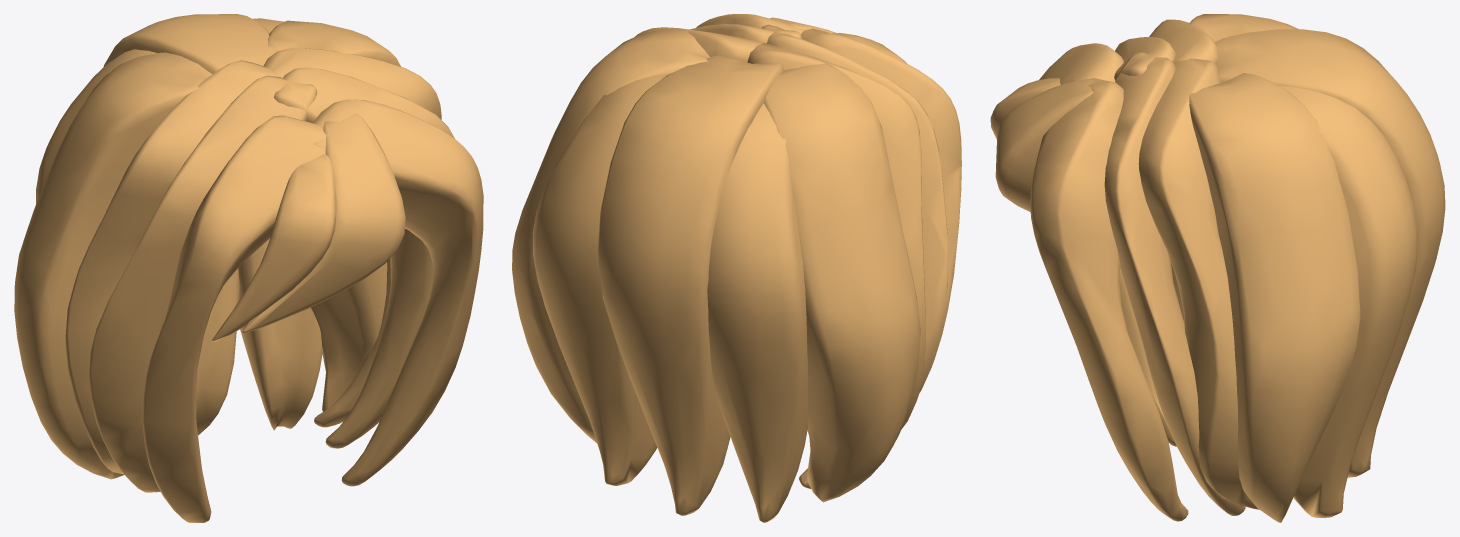
The model's file is hair-004-32df56e0.glb.
3 views of the same model, side by side, from view 1: azimuth 30°, elevation 25°; view 2: azimuth 150°, elevation 25°; view 3: azimuth 270°, elevation 25° (orthographic). The views are drawn at different scales.
Parts seen in each view (by area): view 1: Geo_Female_White_Hair.011; view 2: Geo_Female_White_Hair.011; view 3: Geo_Female_White_Hair.011.
Boxes of the visible parts, x1,y1,x2,y2 form: Geo_Female_White_Hair.011: (14, 14, 483, 522); Geo_Female_White_Hair.011: (512, 14, 961, 522); Geo_Female_White_Hair.011: (990, 14, 1445, 522).
Size of the model in its own units: 2.06 by 2.12 by 2.03.
